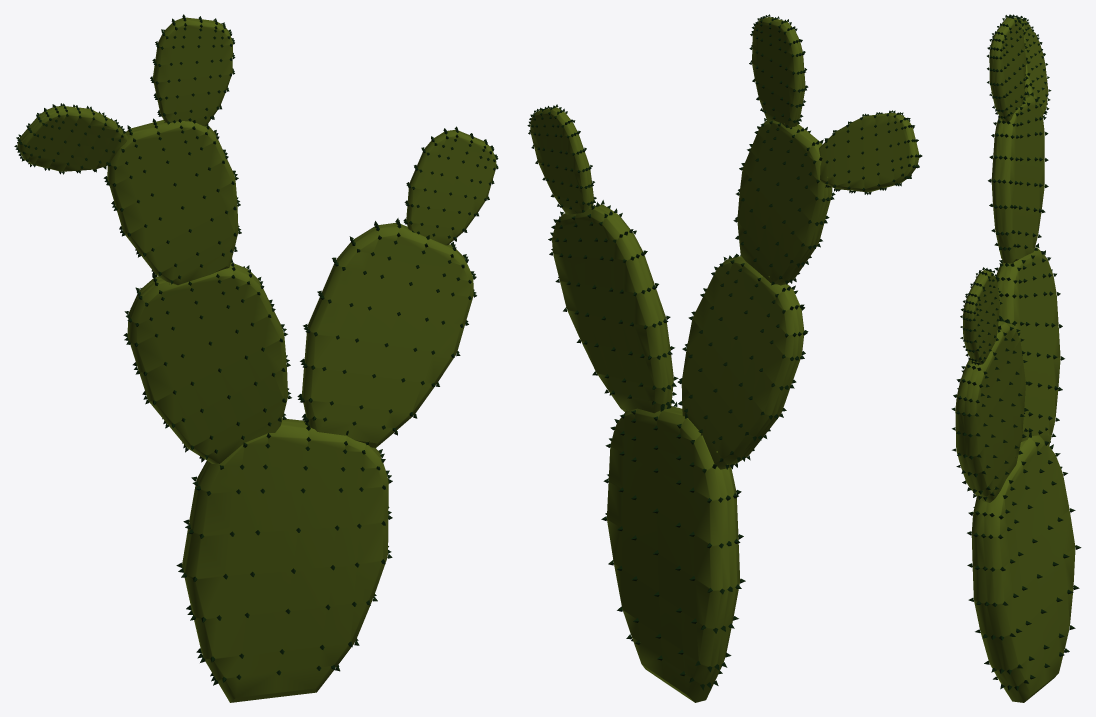
The model's file is SmallNopal.FBX.
3 views of the same model, side by side, from view 1: azimuth 30°, elevation 25°; view 2: azimuth 150°, elevation 25°; view 3: azimuth 270°, elevation 25° (orthographic). The views are drawn at different scales.
Visible parts, largest first — view 1: SmallNopal; view 2: SmallNopal; view 3: SmallNopal.
Boxes of the visible parts, box(x1,y1,x2,y2) form: SmallNopal: box(14, 14, 498, 702); SmallNopal: box(527, 14, 922, 702); SmallNopal: box(951, 14, 1081, 702).
Size of the model in its own units: 26.35 by 40.47 by 7.56.
